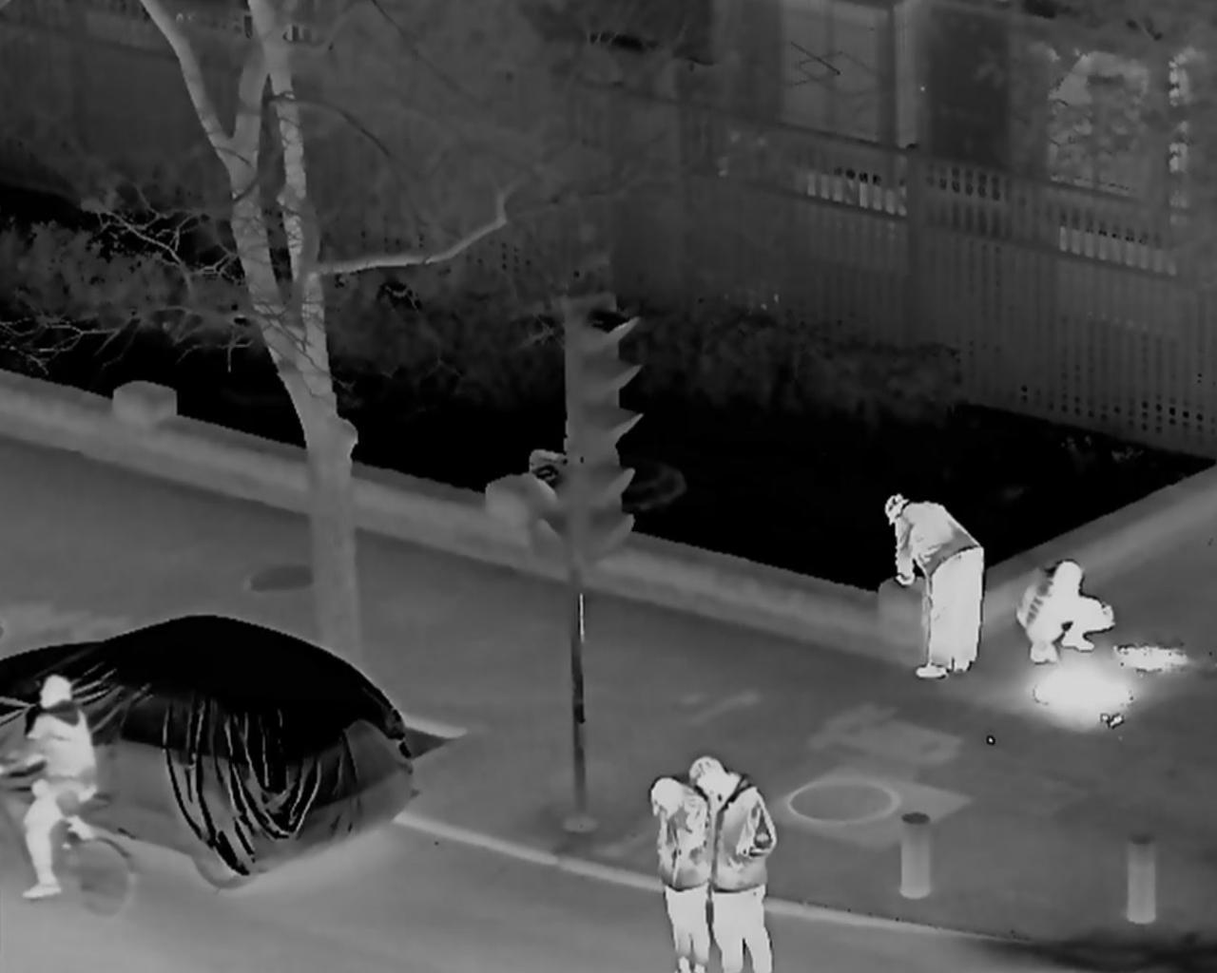person: (687, 759, 776, 973), (882, 495, 985, 677), (18, 674, 99, 899), (647, 777, 714, 973), (1021, 562, 1115, 661)
